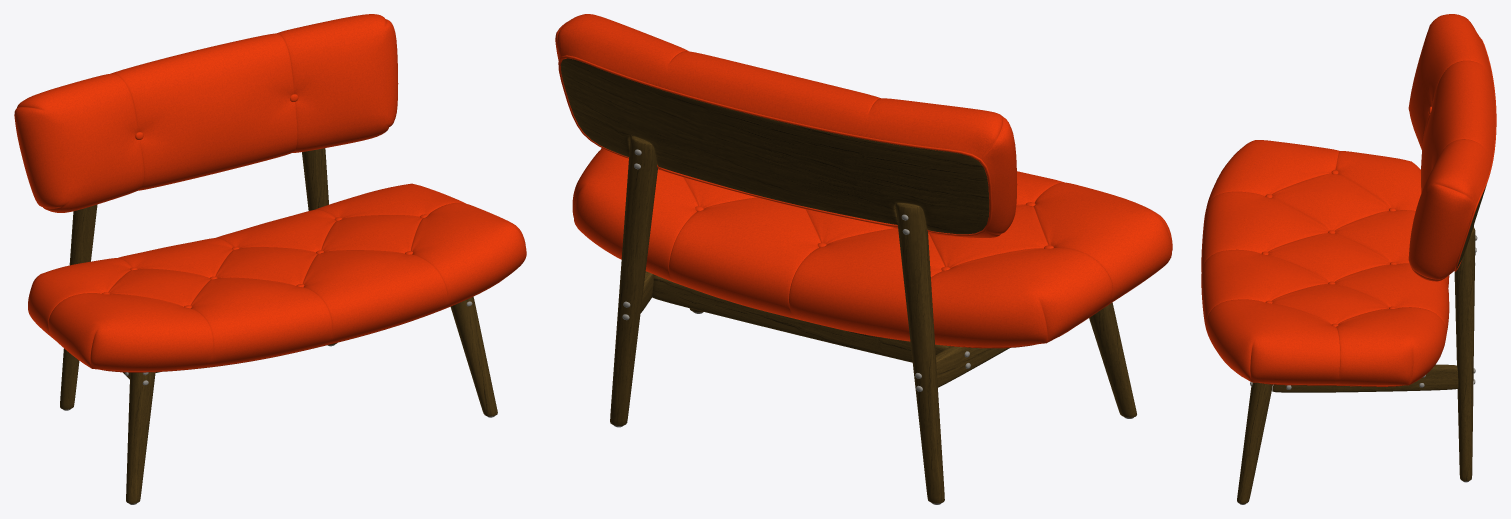
The model's file is SheenChair.glb.
The picture shows the model from 3 angles, left to right: view 1: azimuth 30°, elevation 25°; view 2: azimuth 150°, elevation 25°; view 3: azimuth 270°, elevation 25°; orthographic projection. The views are drawn at different scales.
Parts seen in each view (by area): view 1: SheenChair_fabric, SheenChair_wood; view 2: SheenChair_fabric, SheenChair_wood; view 3: SheenChair_fabric, SheenChair_wood.
Part boxes in pixels (x1,y1,x2,y2): SheenChair_fabric: [14, 14, 526, 372]; SheenChair_wood: [60, 148, 497, 503]; SheenChair_fabric: [555, 14, 1172, 348]; SheenChair_wood: [560, 58, 1136, 503]; SheenChair_fabric: [1201, 14, 1496, 386]; SheenChair_wood: [1237, 185, 1486, 503].
Bounding box in the file's own units: 0.9787 × 0.6862 × 0.5703.
Materials: 4 (3 with a texture image).
